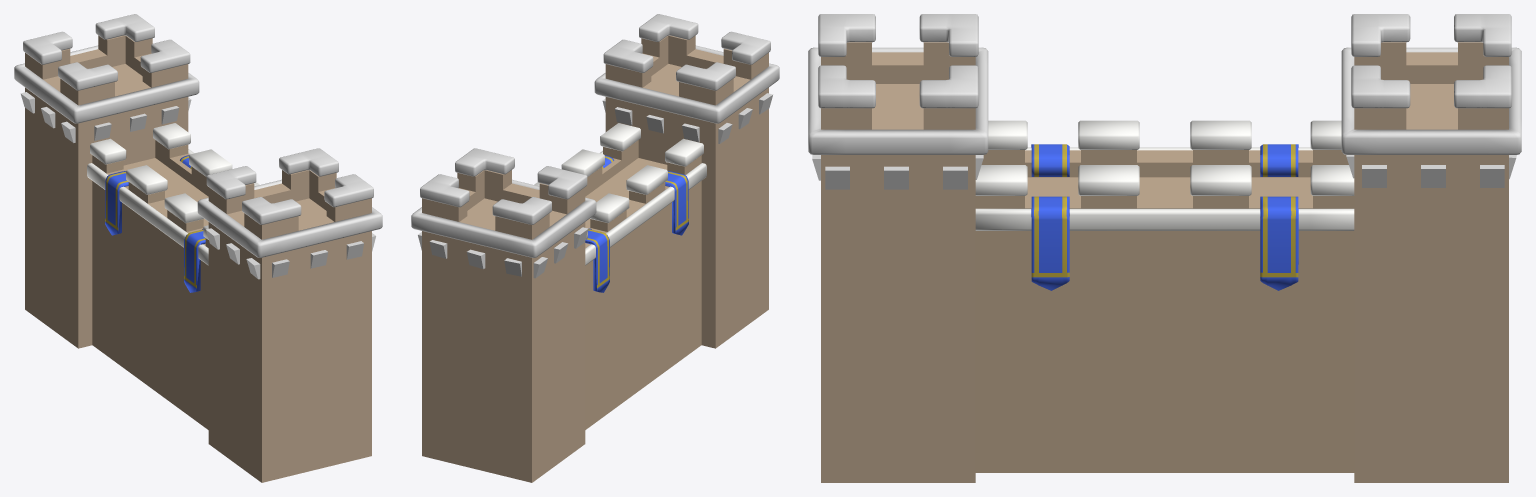
The model's file is NEW CASTLE 1.fbx.
3 views of the same model, side by side, from view 1: azimuth 30°, elevation 25°; view 2: azimuth 150°, elevation 25°; view 3: azimuth 270°, elevation 25° (orthographic). The views are drawn at different scales.
Visible parts, largest first — view 1: Cube, BAYDAK; view 2: Cube, BAYDAK; view 3: Cube, BAYDAK.
Part boxes in pixels (x1,y1,x2,y2): Cube: (14,14,382,482); BAYDAK: (105,155,205,292); Cube: (411,14,779,482); BAYDAK: (585,155,688,292); Cube: (808,14,1521,482); BAYDAK: (1031,144,1298,290).
Size of the model in its own units: 9.76 by 20.03 by 33.14.
